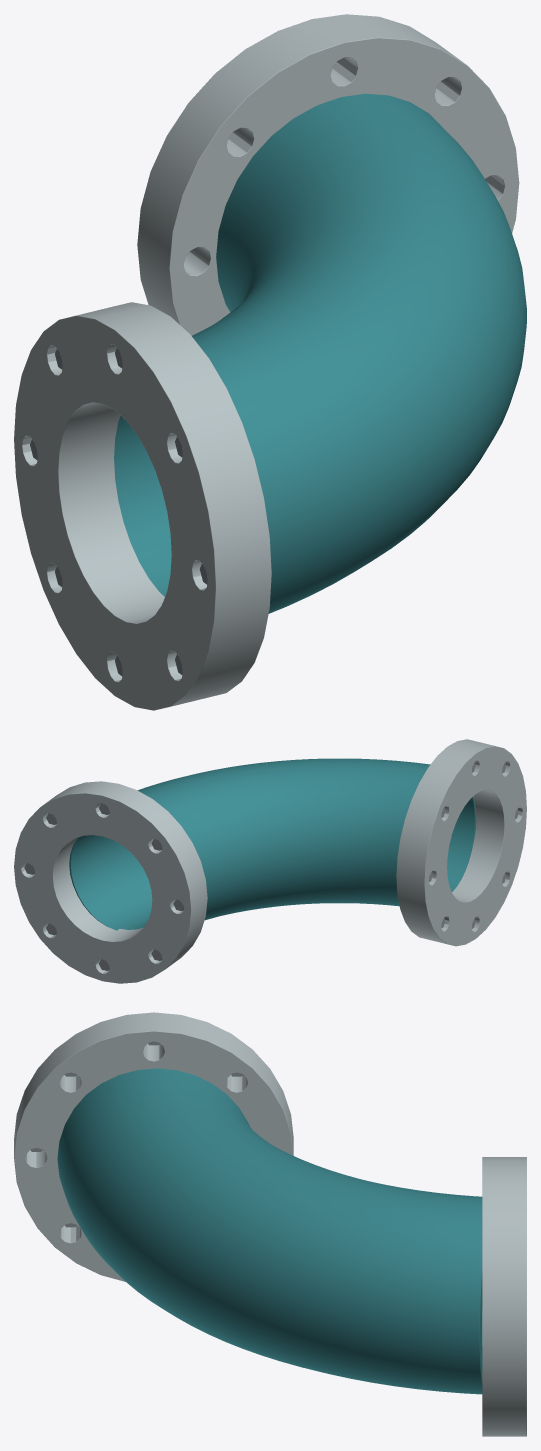
3 views of the same model, one above another, from view 1: azimuth 30°, elevation 25°; view 2: azimuth 150°, elevation 25°; view 3: azimuth 270°, elevation 25° (orthographic). The views are drawn at different scales.
Parts seen in each view (by area): view 1: SM_NPP_Pipe_Elbow90_R1_A; view 2: SM_NPP_Pipe_Elbow90_R1_A; view 3: SM_NPP_Pipe_Elbow90_R1_A.
Boxes of the visible parts, <box> form: SM_NPP_Pipe_Elbow90_R1_A: <box>14,14,526,710</box>; SM_NPP_Pipe_Elbow90_R1_A: <box>14,739,526,983</box>; SM_NPP_Pipe_Elbow90_R1_A: <box>14,1012,526,1436</box>.
Size of the model in its own units: 1.38 by 0.75 by 1.38.
